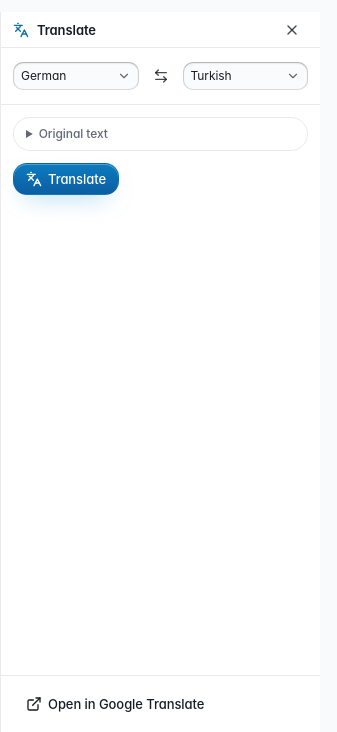
TranslatePanel › lists ready languages first in the language pickers
Click the dropdown named "From".
click(76, 76)  # box [13,62,138,90]
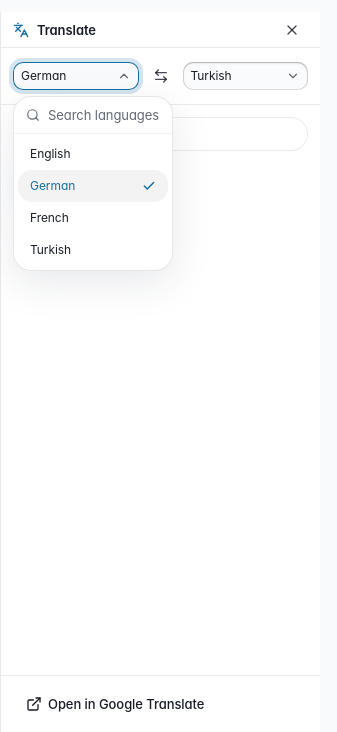
Expected: the options read "English", "German", "French", "Turkish", in this order, [30,146,70,161]; [18,170,168,202]; [30,210,69,225]; [30,242,71,257]
